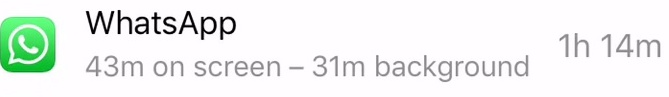name: (80, 4, 246, 45)
time: (82, 51, 150, 84), (309, 52, 370, 82)
